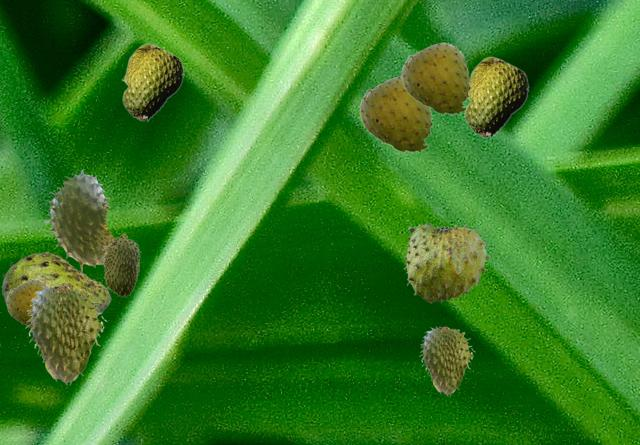guyabano: (25, 284, 106, 384), (45, 169, 116, 273), (403, 220, 489, 302), (1, 252, 110, 315), (358, 75, 432, 153), (464, 56, 528, 138), (400, 42, 470, 115), (121, 43, 183, 121), (419, 326, 474, 395), (102, 232, 140, 296), (5, 279, 48, 328)
